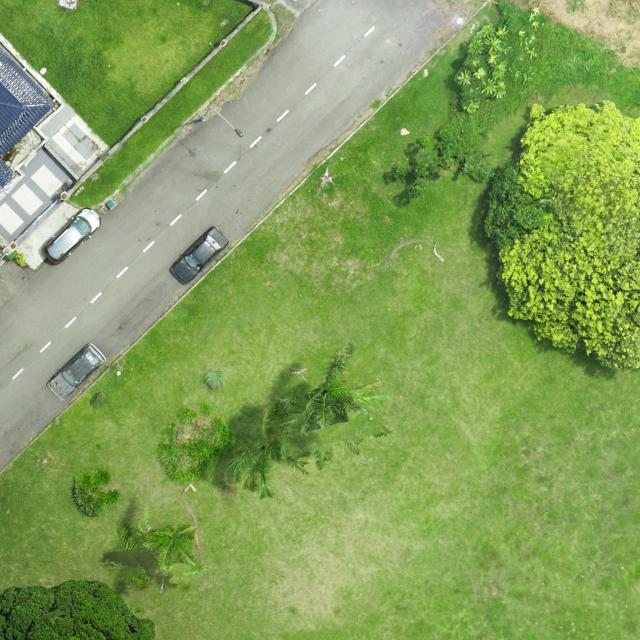Tree: (484, 99, 640, 371), (0, 577, 155, 640)
